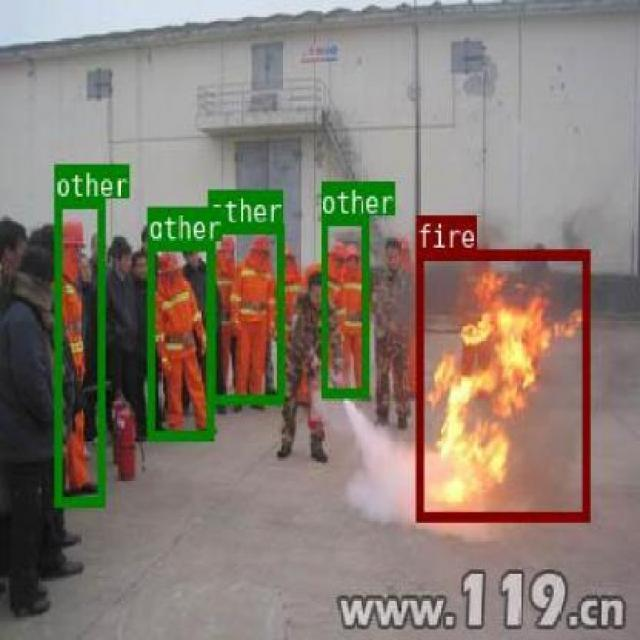Fire: (415, 249, 588, 520)
